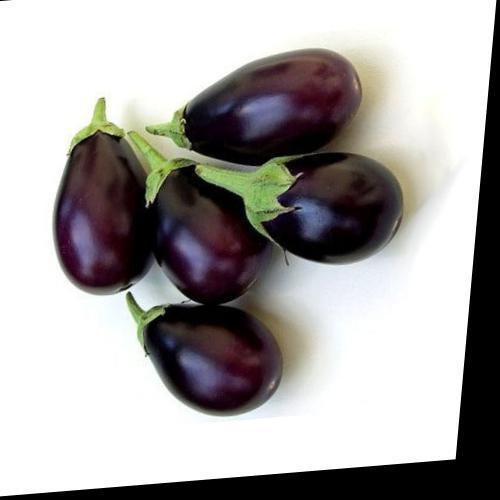eggplant: (34, 42, 410, 405)
